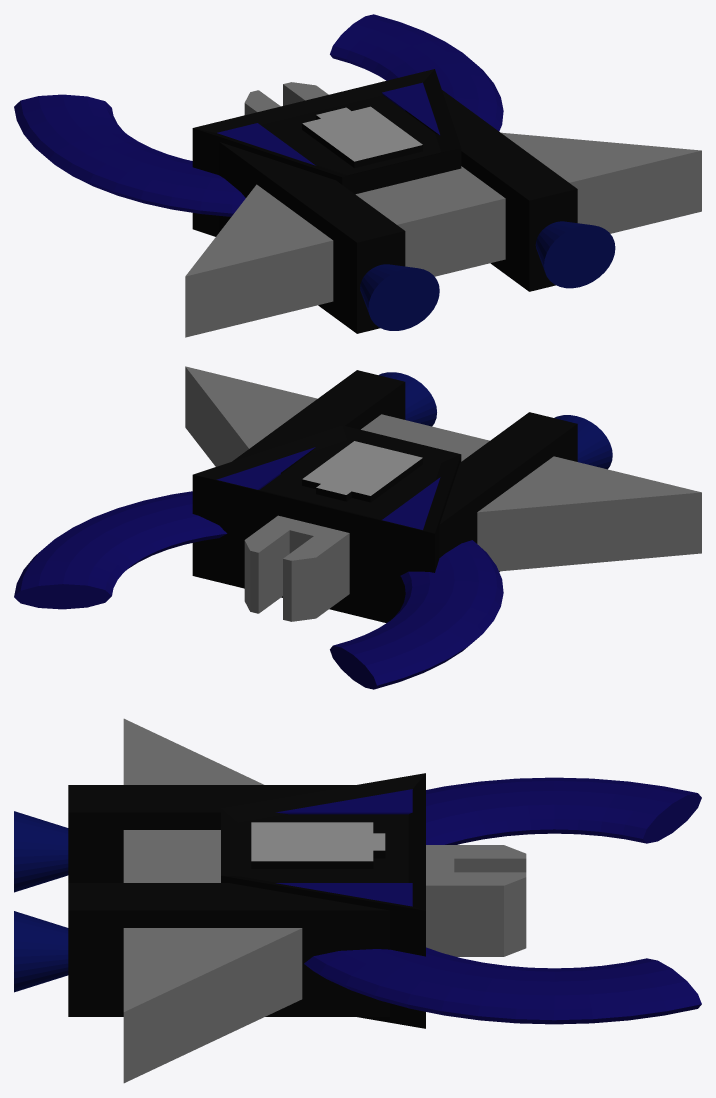
The model's file is Player Ship.fbx.
3 renders of one model, top to bottom at view 1: azimuth 30°, elevation 25°; view 2: azimuth 150°, elevation 25°; view 3: azimuth 270°, elevation 25°, orthographic. The views are drawn at different scales.
Parts seen in each view (by area): view 1: Cube, Torus.001, Cube.001, Cube.003, Cube.002, Cone.001, Cone; view 2: Cube, Cube.001, Torus.001, Cube.003, Cube.002, Cone, Cone.001; view 3: Cube, Torus.001, Cube.002, Cube.001, Cube.003, Cone.001, Cone.
Part boxes in pixels (box(x1,y1,x2,y2)): Cube: box(185, 82, 701, 337); Torus.001: box(14, 14, 503, 216); Cube.001: box(192, 69, 461, 236); Cube.003: box(217, 123, 405, 333); Cube.002: box(382, 82, 577, 291); Cone.001: box(535, 221, 615, 288); Cone: box(360, 264, 439, 330); Cube: box(185, 366, 701, 621); Cube.001: box(192, 425, 461, 622); Torus.001: box(14, 491, 503, 689); Cube.003: box(382, 412, 577, 571); Cube.002: box(216, 370, 405, 489); Cone: box(554, 415, 612, 469); Cone.001: box(378, 372, 436, 426); Cube: box(123, 718, 526, 1083); Torus.001: box(304, 777, 701, 1024); Cube.002: box(68, 883, 412, 1016); Cube.001: box(221, 773, 425, 1028); Cube.003: box(68, 785, 412, 882); Cone.001: box(14, 911, 68, 992); Cone: box(14, 811, 68, 892).
Size of the model in its own units: 1067 by 200 by 1056.
